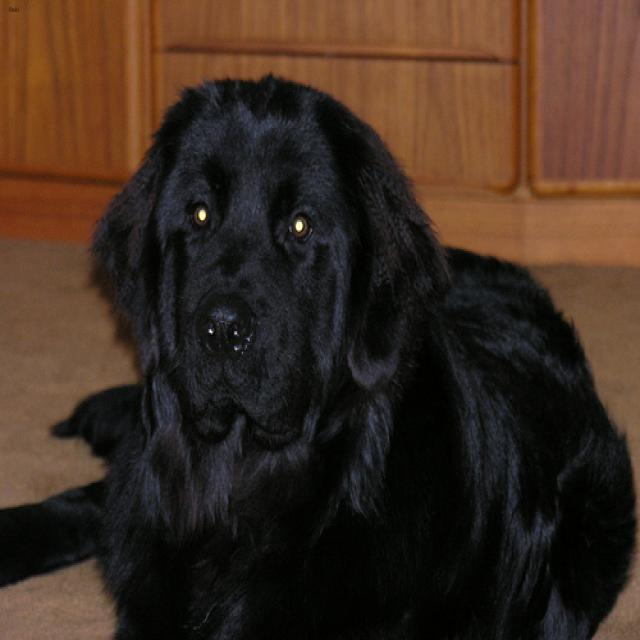dog-newfoundland: (1, 60, 637, 637)
